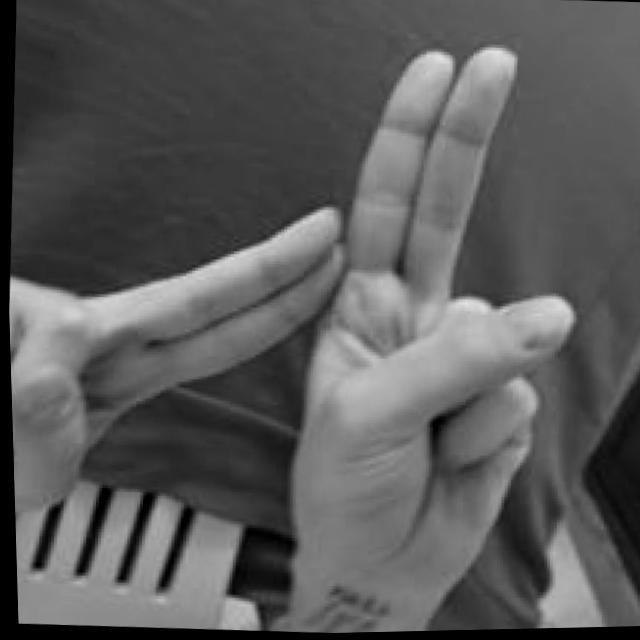K: (1, 5, 605, 640)
